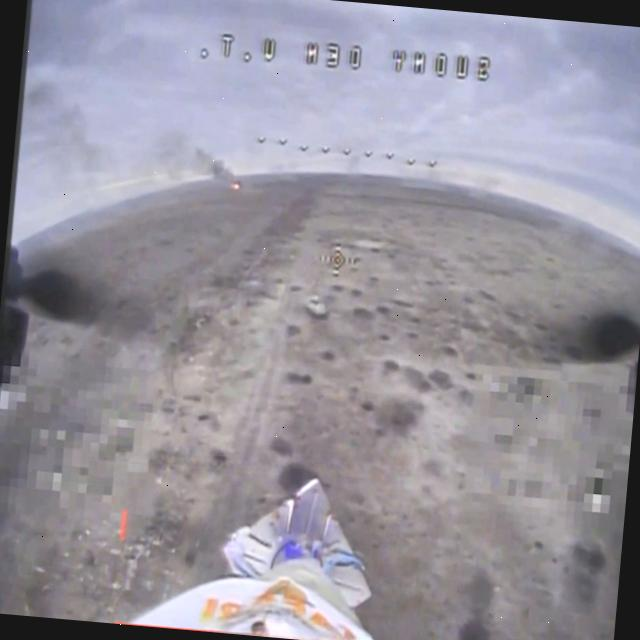AIFV: (303, 296, 329, 320)
